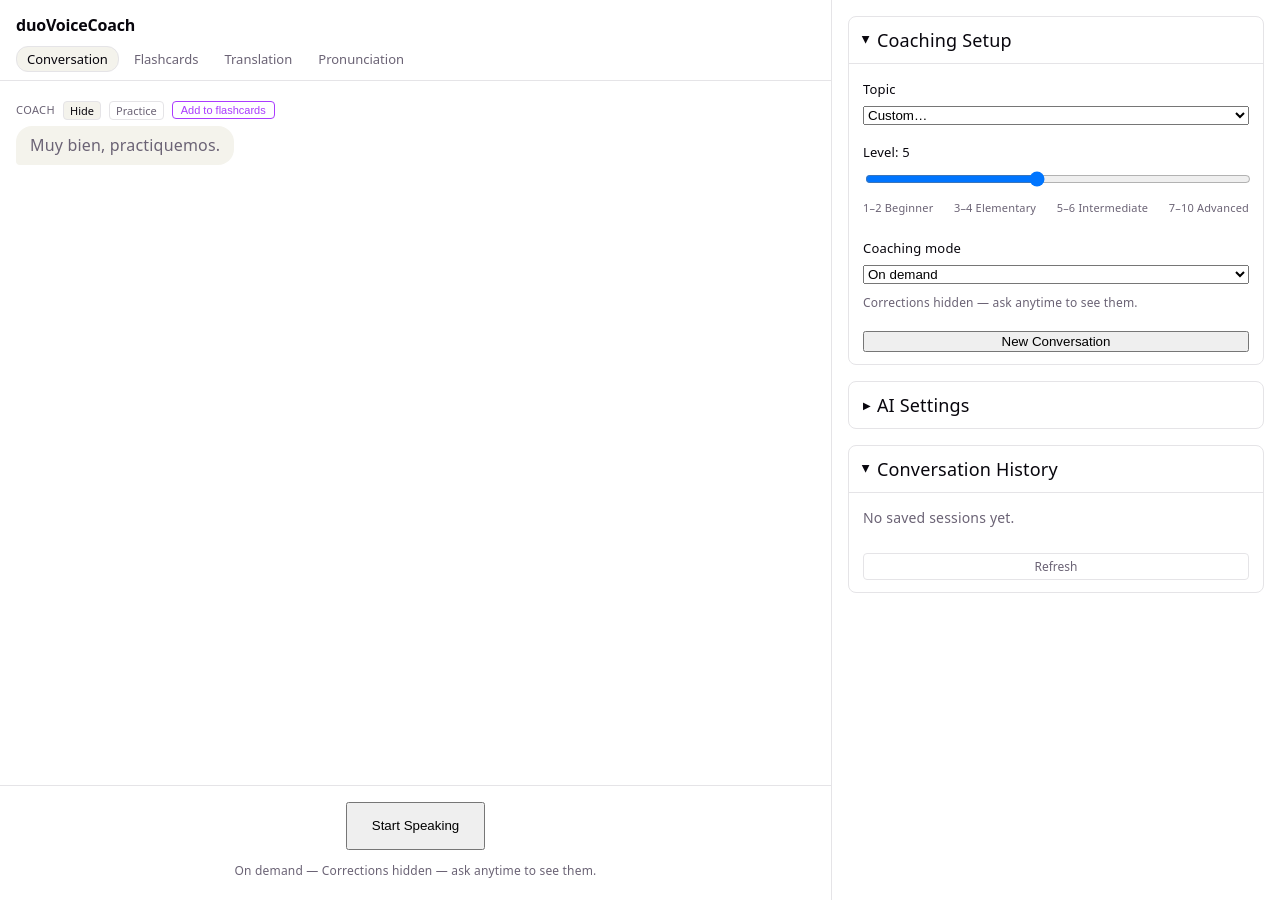
Scenario: App — Translation tab › switches to Translation view when Translation tab clicked
Step 1. Click the button "Translation" → [258, 59], box [213,46,303,72]
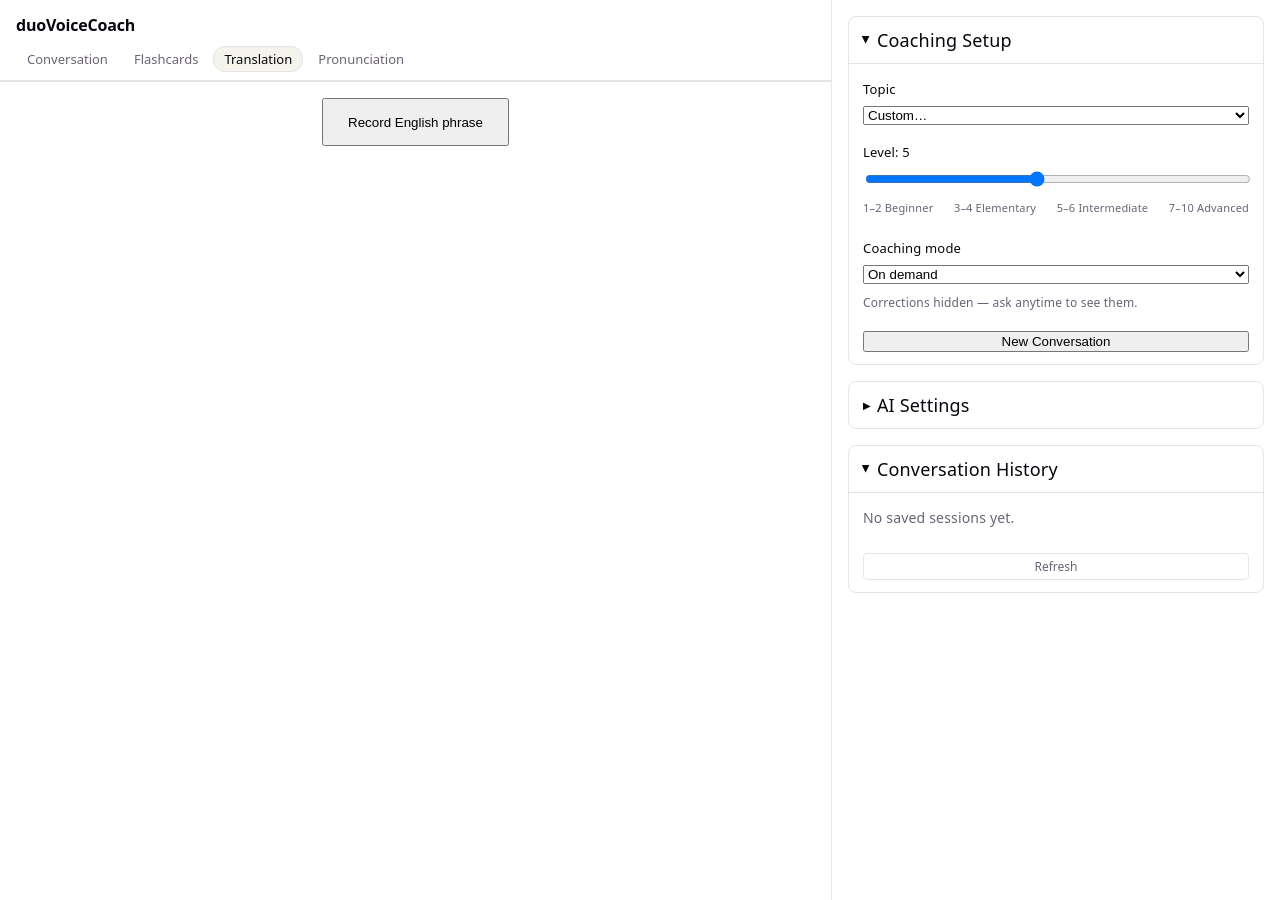
Expected: the element with class "translation-view" is shown, [0,81,831,162]
